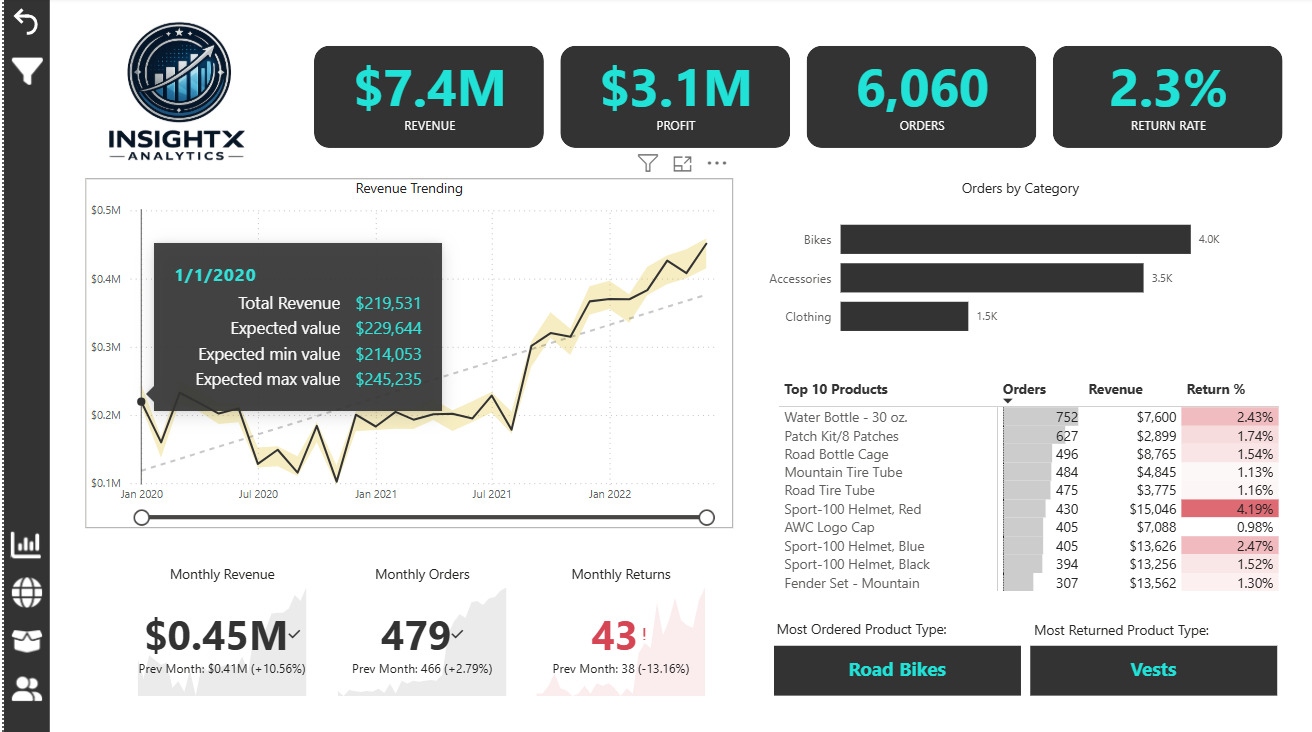

What the dashboard file says about the page in this screenshot:
{"tool":"powerbi","page":{"name":"Exec Dashboard","canvas":[1280,720],"ordinal":0},"visuals":[{"type":"card","fields":{"Values":["Measure Table.Total Revenue"]},"box":[288.1,17.8,256.2,150],"z":0,"group":"g2"},{"type":"group","id":"g1","title":"KPI Backgrounds","box":[303.1,47.8,947.5,100],"z":0},{"type":"shape","box":[303.1,47.8,225,100],"z":0,"group":"g1"},{"type":"actionButton","box":[2.5,516.7,45.6,37.8],"z":0,"group":"g3"},{"type":"shape","title":"Left Nav Background","box":[0,0,45,720],"z":1000},{"type":"card","fields":{"Values":["Measure Table.Total Profit"]},"box":[528.9,17.8,256.2,150],"z":1000,"group":"g2"},{"type":"shape","box":[543.9,47.8,225,100],"z":1000,"group":"g1"},{"type":"actionButton","box":[3.3,563.4,45.6,37.8],"z":1000,"group":"g3"},{"type":"group","id":"g2","title":"KPI Values","box":[288.1,17.8,978.8,150],"z":2000},{"type":"card","fields":{"Values":["Measure Table.Total Orders"]},"box":[769.8,17.8,256.2,150],"z":2000,"group":"g2"},{"type":"shape","box":[784.8,47.8,225,100],"z":2000,"group":"g1"},{"type":"actionButton","box":[3.3,611.1,45.6,37.8],"z":2000,"group":"g3"},{"type":"card","fields":{"Values":["Measure Table.Return Rate"]},"box":[1010.6,17.8,256.2,150],"z":3000,"group":"g2"},{"type":"shape","box":[1025.6,47.8,225,100],"z":3000,"group":"g1"},{"type":"lineChart","title":"Revenue Trending","fields":{"Category":["Calendar Lookup.Start of Month"],"Y":["Measure Table.Total Revenue"]},"box":[78.9,177.7,633.8,342.5],"z":3000},{"type":"actionButton","box":[3.3,657.8,45.6,37.8],"z":3000,"group":"g3"},{"type":"kpi","title":"Monthly Revenue","fields":{"Goal":["Measure Table.Previous Month Revenue"],"Indicator":["Measure Table.Total Revenue"],"TrendLine":["Calendar Lookup.Start of Month"]},"box":[126.2,555,175,133.8],"z":4000},{"type":"kpi","title":"Monthly Orders","fields":{"Goal":["Measure Table.Previous Month Orders"],"Indicator":["Measure Table.Total Orders"],"TrendLine":["Calendar Lookup.Start of Month"]},"box":[321.2,555,175,133.8],"z":5000},{"type":"kpi","title":"Monthly Returns","fields":{"Goal":["Measure Table.Previous Month Returns"],"Indicator":["Measure Table.Total Returns"],"TrendLine":["Calendar Lookup.Start of Month"]},"box":[516.2,555,175,133.8],"z":6000},{"type":"clusteredBarChart","title":"Orders by Category","fields":{"Category":["Product Categories Lookup.CategoryName"],"Y":["Measure Table.Total Orders"]},"box":[738.9,177.7,511.2,171.2],"z":7000},{"type":"pivotTable","fields":{"Rows":["Product Lookup.ProductName"],"Values":["Measure Table.Total Orders","Measure Table.Total Revenue","Measure Table.Return Rate"]},"box":[753.7,369.2,511.1,228.4],"z":8000},{"type":"card","fields":{"Values":["Min(Product Subcategories Lookup.SubcategoryName)"]},"box":[753.7,634.2,241.4,48.5],"z":9000},{"type":"textbox","box":[751.3,604.6,198.8,35.5],"z":10000},{"type":"card","fields":{"Values":["Min(Product Subcategories Lookup.SubcategoryName)"]},"box":[1004.1,634.2,241.4,48.5],"z":11000},{"type":"textbox","box":[1002.2,605.2,198.8,35.5],"z":12000},{"type":"actionButton","box":[3.3,5.6,35.6,35.6],"z":13000},{"type":"group","id":"g3","title":"Navigation Buttons","box":[2.5,516.7,46.4,178.9],"z":14000},{"type":"actionButton","box":[3.4,53.1,38.4,39.6],"z":15000},{"type":"image","box":[62,14.4,213.5,154.4],"z":17000}]}

Visuals, with their boxes on the page's 1280x720 design canvas (x1, y1, x2, y2). These are canvas units, not pixel positions in the 1312x732 screenshot, which may show the page scaled, cropped or inside an application window:
card - Measure Table.Total Revenue: [288,18,544,168]
"KPI Backgrounds" group: [303,48,1251,148]
shape: [303,48,528,148]
actionButton: [2,517,48,554]
"Left Nav Background" shape: [0,0,45,720]
card - Measure Table.Total Profit: [529,18,785,168]
shape: [544,48,769,148]
actionButton: [3,563,49,601]
"KPI Values" group: [288,18,1267,168]
card - Measure Table.Total Orders: [770,18,1026,168]
shape: [785,48,1010,148]
actionButton: [3,611,49,649]
card - Measure Table.Return Rate: [1011,18,1267,168]
shape: [1026,48,1251,148]
"Revenue Trending" lineChart: [79,178,713,520]
actionButton: [3,658,49,696]
"Monthly Revenue" kpi: [126,555,301,689]
"Monthly Orders" kpi: [321,555,496,689]
"Monthly Returns" kpi: [516,555,691,689]
"Orders by Category" clusteredBarChart: [739,178,1250,349]
pivotTable - Product Lookup.ProductName x Measure Table.Total Orders: [754,369,1265,598]
card - Min(Product Subcategories Lookup.SubcategoryName): [754,634,995,683]
textbox: [751,605,950,640]
card - Min(Product Subcategories Lookup.SubcategoryName): [1004,634,1246,683]
textbox: [1002,605,1201,641]
actionButton: [3,6,39,41]
"Navigation Buttons" group: [2,517,49,696]
actionButton: [3,53,42,93]
image: [62,14,276,169]
